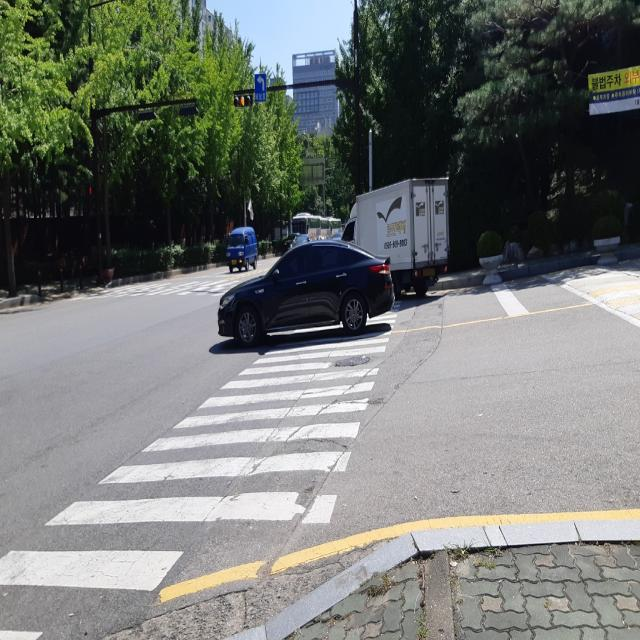횡단보도: (0, 293, 403, 640), (0, 362, 260, 590), (262, 350, 342, 523)
